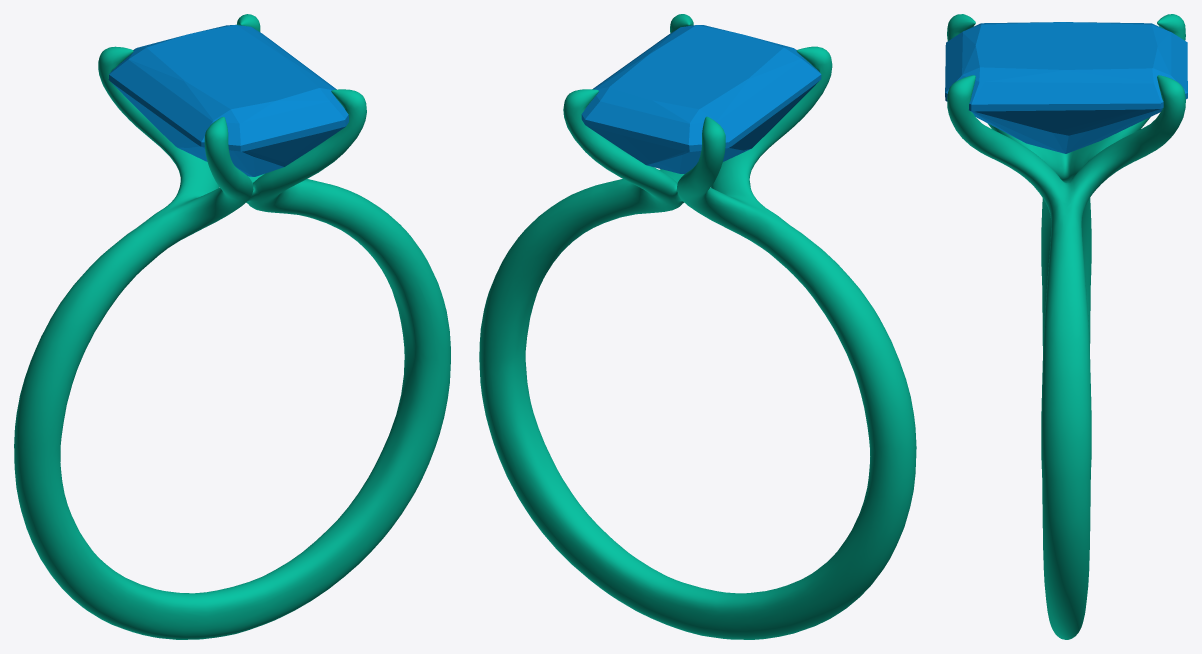
Rendered from BE1343_RA_200ct_RENDER.glb.
The picture shows the model from 3 angles, left to right: view 1: azimuth 30°, elevation 25°; view 2: azimuth 150°, elevation 25°; view 3: azimuth 270°, elevation 25°; orthographic projection.
Visible parts, largest first — view 1: Metal 01, CS_Diamond_Radiant; view 2: Metal 01, CS_Diamond_Radiant; view 3: Metal 01, CS_Diamond_Radiant.
Boxes of the visible parts, x1=… form: Metal 01: x1=14, y1=14, x2=450, y2=639; CS_Diamond_Radiant: x1=108, y1=24, x2=348, y2=176; Metal 01: x1=479, y1=14, x2=916, y2=639; CS_Diamond_Radiant: x1=581, y1=25, x2=821, y2=173; Metal 01: x1=947, y1=14, x2=1185, y2=639; CS_Diamond_Radiant: x1=945, y1=22, x2=1187, y2=153.
Size of the model in its own units: 20.05 by 25.22 by 9.72.
